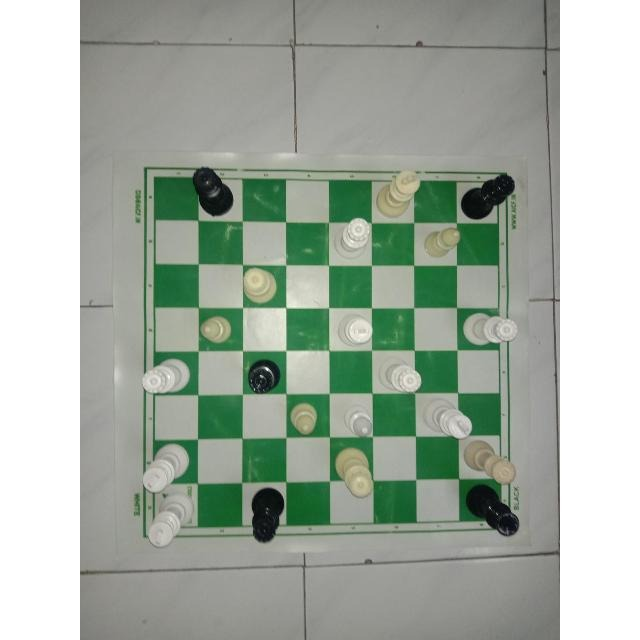black-king: (462, 485, 529, 539)
black-queen: (461, 163, 518, 221), (188, 163, 240, 224), (244, 486, 288, 548), (246, 355, 285, 399)
white-bishop: (193, 303, 241, 352), (288, 392, 328, 440), (424, 215, 464, 263), (341, 405, 379, 445)
white-king: (137, 443, 192, 499), (143, 493, 195, 551), (420, 395, 479, 445), (377, 163, 423, 220), (334, 311, 380, 349)
white-queen: (463, 440, 523, 490), (460, 310, 523, 352), (331, 443, 374, 497), (137, 359, 195, 399), (381, 348, 422, 402), (333, 217, 377, 261), (239, 267, 285, 307)
